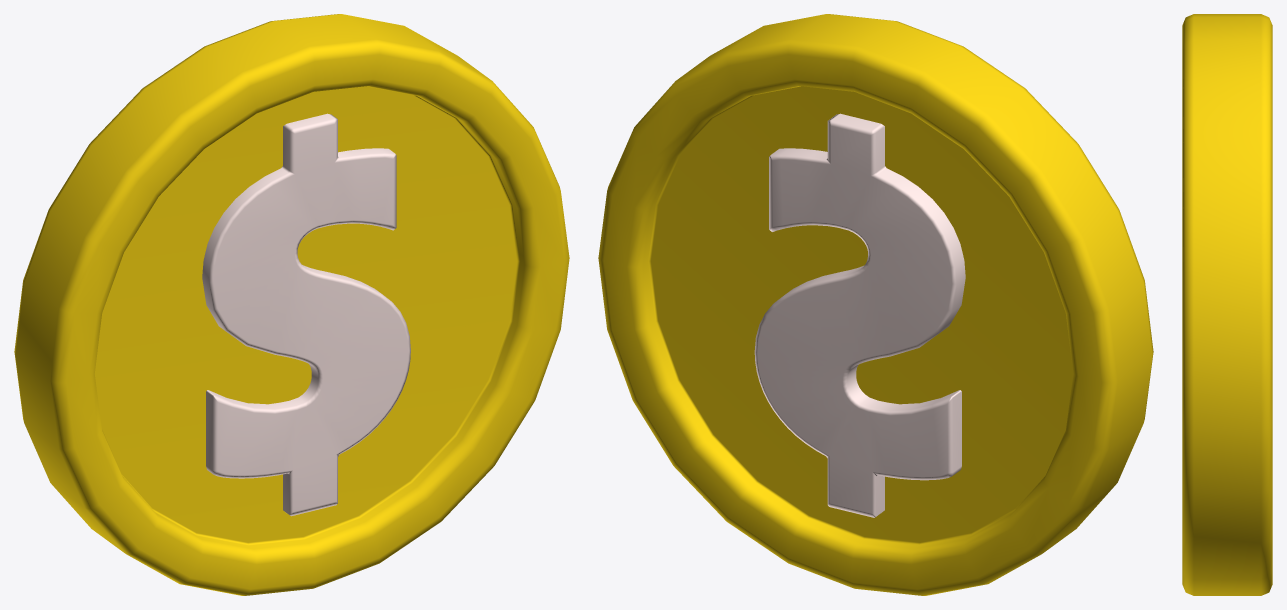
File: Public_1_Coin_Dollar_1.glb
The picture shows the model from 3 angles, left to right: view 1: azimuth 30°, elevation 25°; view 2: azimuth 150°, elevation 25°; view 3: azimuth 270°, elevation 25°; orthographic projection. The views are drawn at different scales.
Parts seen in each view (by area): view 1: Public_1_Coin_Dollar_1; view 2: Public_1_Coin_Dollar_1; view 3: Public_1_Coin_Dollar_1.
Boxes of the visible parts, x1=… form: Public_1_Coin_Dollar_1: x1=14, y1=14, x2=569, y2=595; Public_1_Coin_Dollar_1: x1=598, y1=14, x2=1153, y2=595; Public_1_Coin_Dollar_1: x1=1182, y1=14, x2=1272, y2=595.
Bounding box in the file's own units: 1.11 × 1.11 × 0.1719.
Materials: 1 (1 with a texture image).
